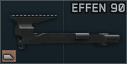FN P90 EFFEN 90 upper receiver: (0, 0, 127, 64)
